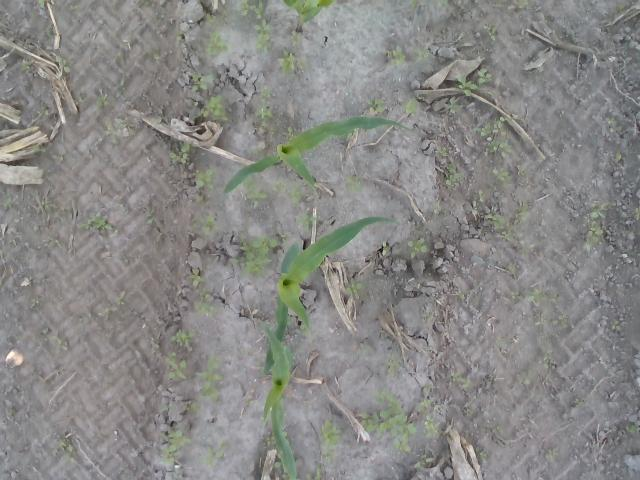Maize: (262, 215, 402, 381), (222, 115, 404, 197), (256, 316, 302, 480), (280, 0, 336, 34)
Weeds: (353, 387, 417, 453), (231, 233, 278, 279), (582, 198, 618, 255), (239, 0, 273, 51), (474, 115, 512, 153), (198, 352, 224, 402), (157, 430, 192, 466), (319, 416, 343, 462), (200, 93, 232, 123), (162, 351, 192, 381), (188, 208, 218, 238), (484, 211, 514, 241), (272, 178, 306, 202), (277, 46, 305, 74), (167, 141, 198, 166), (193, 290, 221, 317), (199, 440, 230, 464), (240, 174, 268, 200), (206, 30, 232, 57), (106, 116, 129, 146), (79, 214, 113, 234), (442, 162, 464, 192), (190, 71, 220, 93), (456, 70, 480, 96), (58, 436, 80, 464), (192, 168, 215, 194), (526, 287, 560, 304), (446, 372, 474, 392), (535, 314, 569, 330), (170, 326, 197, 346), (406, 236, 429, 259), (343, 278, 369, 298), (383, 48, 407, 68), (255, 104, 272, 130), (471, 190, 488, 216), (187, 268, 208, 289), (478, 64, 496, 86), (512, 201, 529, 224), (518, 366, 536, 386), (296, 207, 316, 224), (344, 176, 362, 194), (492, 168, 512, 184), (181, 400, 202, 415), (367, 95, 385, 112), (424, 416, 441, 434), (386, 359, 402, 378), (402, 95, 417, 115), (447, 94, 462, 114), (272, 460, 287, 480), (414, 46, 431, 63), (416, 452, 434, 468), (142, 208, 158, 226), (95, 304, 113, 320), (50, 334, 66, 352), (290, 30, 304, 50), (112, 79, 126, 99), (607, 117, 623, 134), (482, 22, 497, 40), (419, 398, 433, 416), (257, 320, 272, 336), (246, 146, 264, 159), (1, 191, 13, 210), (544, 448, 560, 462), (56, 56, 70, 72), (96, 94, 112, 108), (543, 352, 555, 369), (380, 241, 392, 257), (262, 434, 275, 448), (256, 86, 274, 96), (158, 402, 176, 412), (31, 144, 49, 154), (48, 238, 65, 248), (34, 106, 48, 118), (473, 447, 488, 458), (434, 145, 448, 156), (511, 0, 528, 9), (434, 0, 450, 9), (632, 206, 640, 224), (115, 292, 126, 305), (452, 291, 466, 301), (316, 463, 324, 480), (422, 310, 433, 322), (32, 296, 40, 312), (39, 198, 49, 210), (625, 424, 640, 432), (609, 320, 621, 330), (615, 151, 627, 161), (136, 0, 150, 8), (175, 31, 185, 42), (493, 424, 503, 435), (73, 95, 83, 106), (300, 325, 310, 336), (207, 14, 217, 24), (510, 290, 520, 300), (6, 406, 16, 416), (287, 126, 294, 140), (36, 0, 49, 7), (360, 343, 370, 352), (615, 4, 625, 13), (21, 63, 32, 71), (411, 0, 422, 8), (518, 168, 529, 176), (270, 126, 278, 136), (282, 431, 288, 440)
